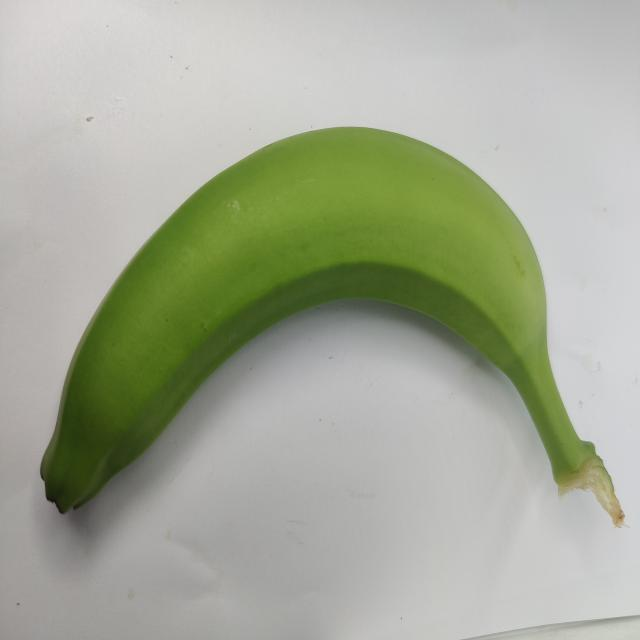raw: (37, 122, 624, 582)
